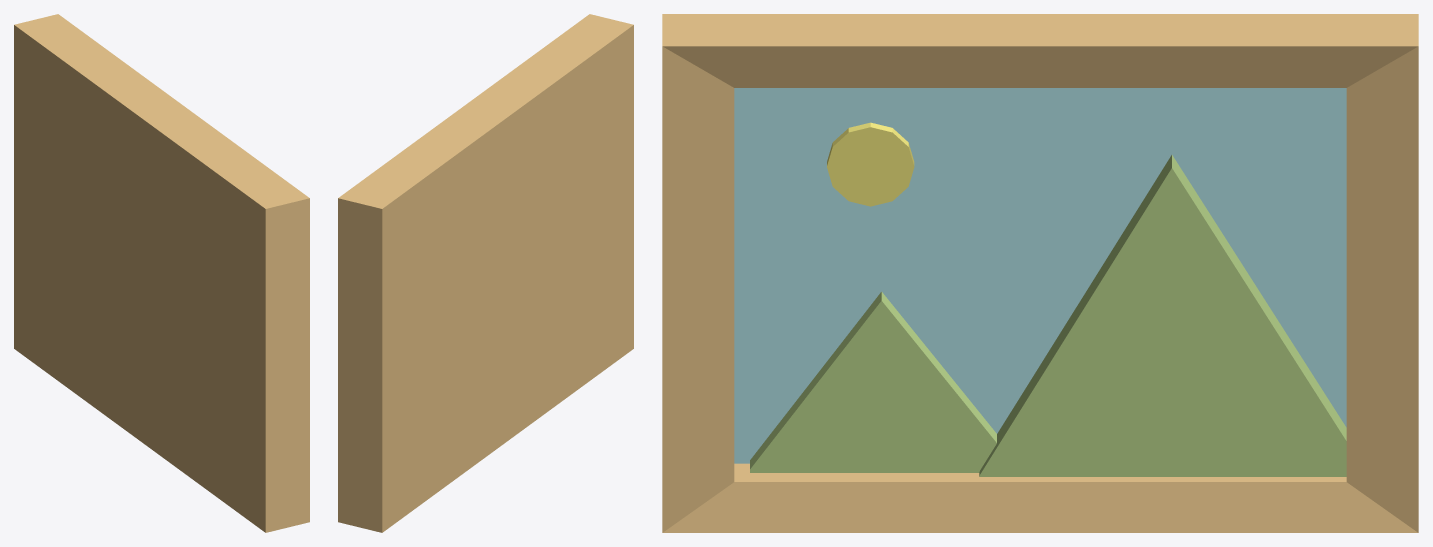
The model's file is frame.glb.
3 views of the same model, side by side, from view 1: azimuth 30°, elevation 25°; view 2: azimuth 150°, elevation 25°; view 3: azimuth 270°, elevation 25° (orthographic). The views are drawn at different scales.
Parts seen in each view (by area): view 1: frame; view 2: frame; view 3: frame.
Boxes of the visible parts, x1,y1,x2,y2 form: frame: (14, 14, 309, 532); frame: (338, 14, 633, 532); frame: (662, 14, 1418, 532).
Size of the model in its own units: 0.42 by 2.94 by 4.14.
